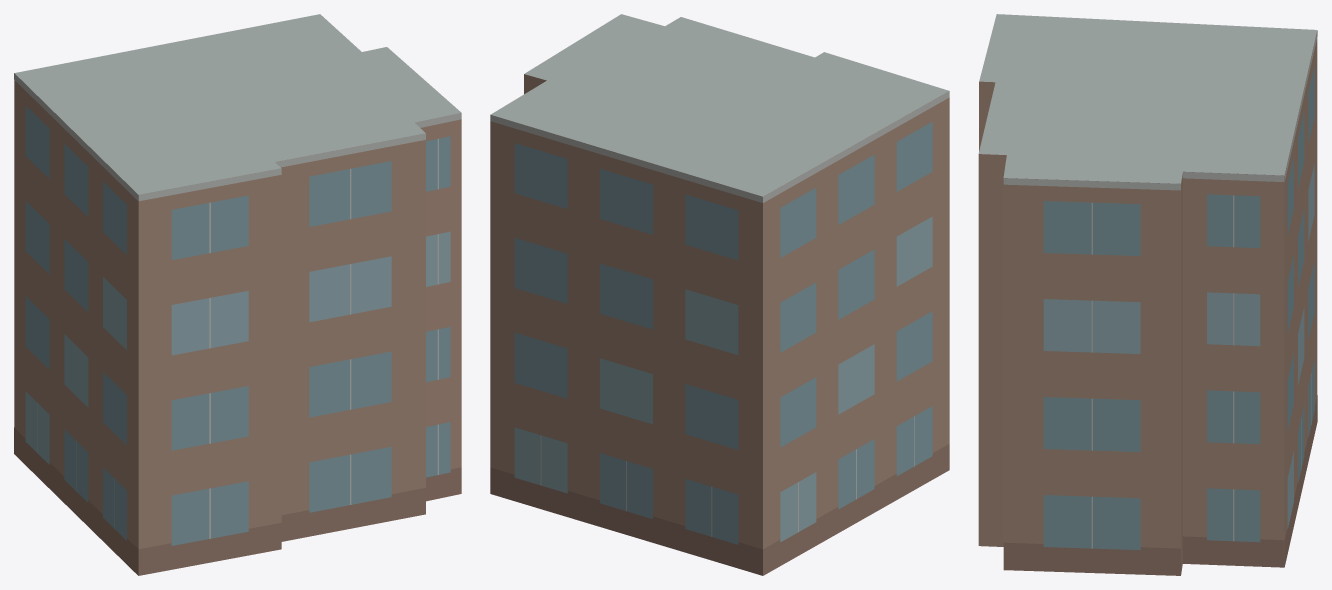
File: survey-upis-32808994.glb
3 views of the same model, side by side, from view 1: azimuth 30°, elevation 25°; view 2: azimuth 150°, elevation 25°; view 3: azimuth 270°, elevation 25° (orthographic). The views are drawn at different scales.
Parts seen in each view (by area): view 1: survey-upis-32808994.tmp; view 2: survey-upis-32808994.tmp; view 3: survey-upis-32808994.tmp.
Part boxes in pixels (x1,y1,x2,y2): survey-upis-32808994.tmp: [14, 14, 461, 575]; survey-upis-32808994.tmp: [490, 14, 949, 575]; survey-upis-32808994.tmp: [978, 14, 1317, 575].
Size of the model in its own units: 13.29 by 14.3 by 11.21.
